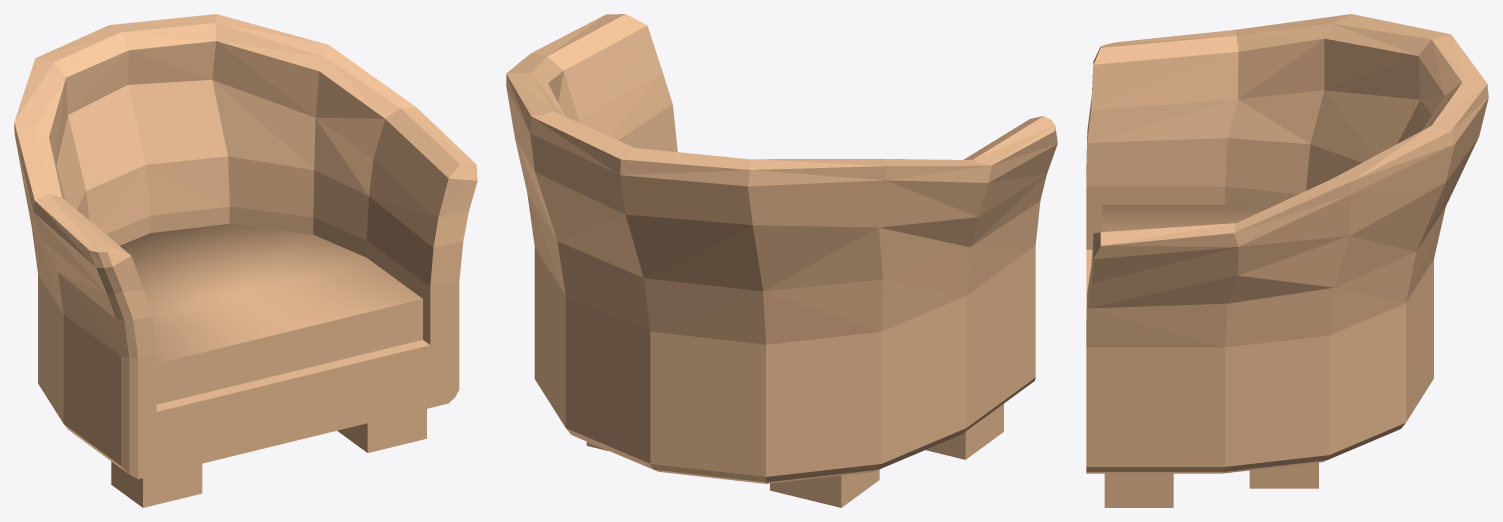
The model's file is OBJ_sofa.fbx.
The picture shows the model from 3 angles, left to right: view 1: azimuth 30°, elevation 25°; view 2: azimuth 150°, elevation 25°; view 3: azimuth 270°, elevation 25°; orthographic projection. The views are drawn at different scales.
Parts seen in each view (by area): view 1: Cylinder001, Cylinder002, Box015; view 2: Cylinder001, Box015; view 3: Cylinder001, Box015, Cylinder002.
Part boxes in pixels (x1,y1,x2,y2): Cylinder001: [14, 14, 477, 479]; Cylinder002: [120, 223, 422, 404]; Box015: [111, 409, 426, 507]; Cylinder001: [506, 14, 1057, 483]; Box015: [586, 404, 1003, 507]; Cylinder001: [1086, 14, 1488, 473]; Box015: [1104, 462, 1318, 507]; Cylinder002: [1102, 205, 1265, 231].
Bounding box in the file's own units: 54.42 × 43.71 × 45.58.
